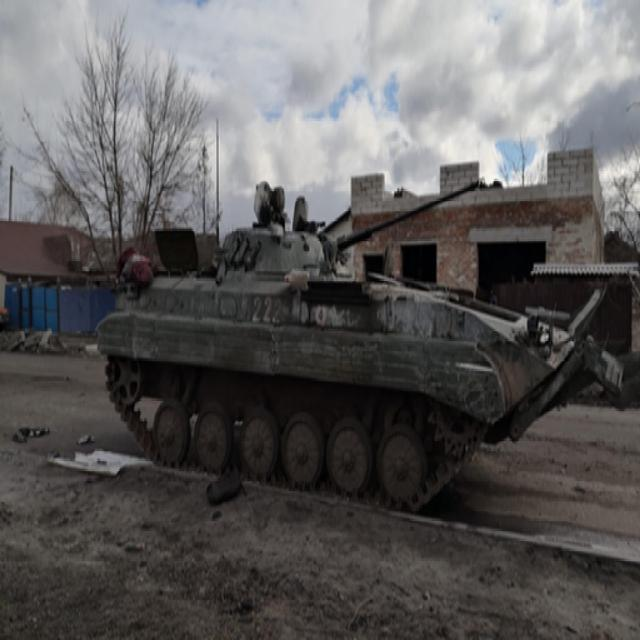APC-IFV: (92, 158, 604, 531)
